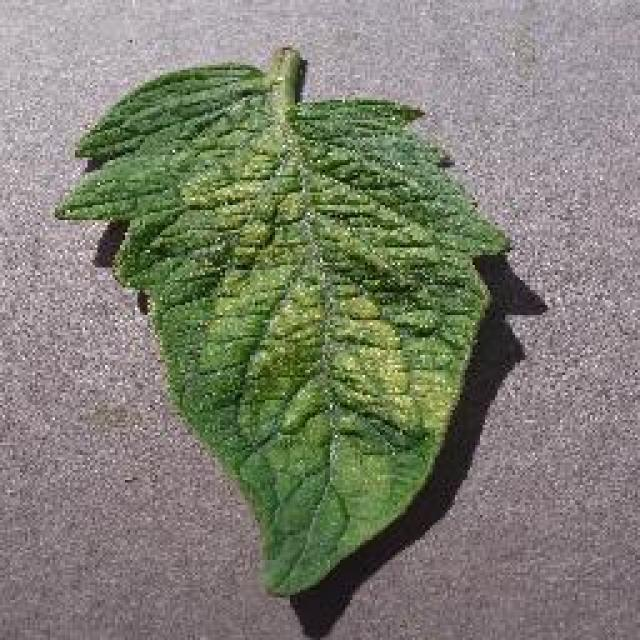Tomato___Spider_mites Two-spotted_spider_mite: (55, 48, 508, 592)
